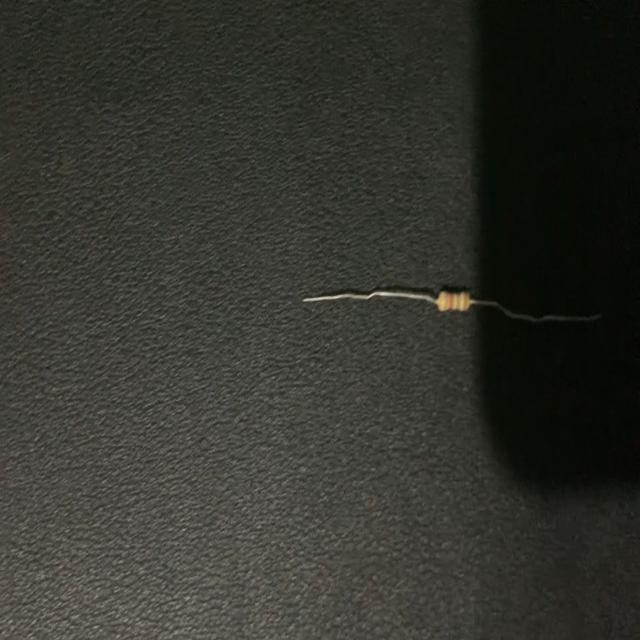resistor: (297, 264, 609, 340)
